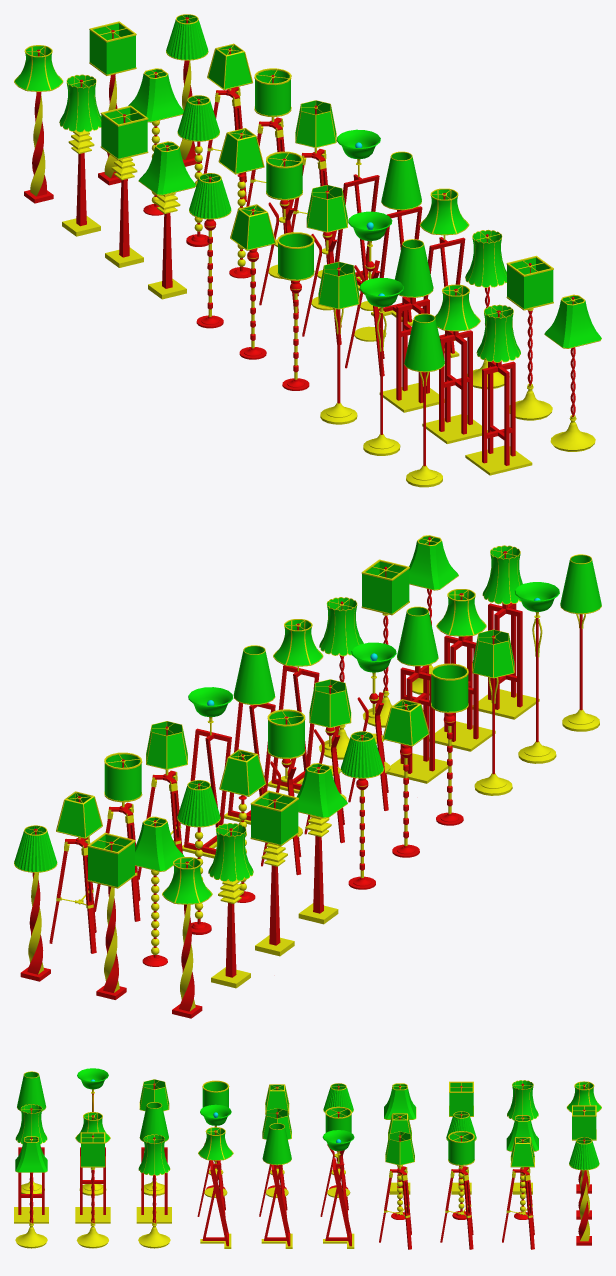
Rendered from floor_lamps_grp.fbx.
The picture shows the model from 3 angles, top to bottom: view 1: azimuth 30°, elevation 25°; view 2: azimuth 150°, elevation 25°; view 3: azimuth 270°, elevation 25°; orthographic projection. The views are drawn at different scales.
Visible parts, largest first — view 1: floor_lamp_11, floor_lamp_12, floor_lamp_13, floor_lamp_8, floor_lamp_7, floor_lamp_9, floor_lamp_22, floor_lamp_21, floor_lamp_10, floor_lamp_20, floor_lamp_25, floor_lamp_1 (+18 smaller); view 2: floor_lamp_11, floor_lamp_13, floor_lamp_12, floor_lamp_8, floor_lamp_20, floor_lamp_9, floor_lamp_7, floor_lamp_10, floor_lamp_29, floor_lamp_25, floor_lamp_24, floor_lamp_30 (+18 smaller); view 3: floor_lamp_25, floor_lamp_11, floor_lamp_13, floor_lamp_24, floor_lamp_28, floor_lamp_27, floor_lamp_23, floor_lamp_21, floor_lamp_22, floor_lamp_12, floor_lamp_29, floor_lamp_30 (+18 smaller).
Part boxes in pixels (x1,y1,x2,y2): floor_lamp_11: (465,304,532,475); floor_lamp_12: (422,284,487,443); floor_lamp_13: (379,239,444,412); floor_lamp_8: (100,105,148,267); floor_lamp_7: (138,141,195,299); floor_lamp_9: (59,74,101,236); floor_lamp_22: (506,255,553,420); floor_lamp_21: (544,294,601,451); floor_lamp_10: (14,45,63,203); floor_lamp_20: (89,21,136,185); floor_lamp_25: (371,151,422,325); floor_lamp_1: (404,313,444,487); floor_lamp_11: (472,545,539,719); floor_lamp_13: (386,606,448,783); floor_lamp_12: (429,589,495,751); floor_lamp_8: (250,790,298,956); floor_lamp_20: (87,832,135,999); floor_lamp_9: (208,823,253,988); floor_lamp_7: (296,763,347,924); floor_lamp_10: (162,857,212,1018); floor_lamp_29: (49,791,102,953); floor_lamp_25: (224,645,275,824); floor_lamp_24: (267,619,323,793); floor_lamp_30: (14,825,57,981); floor_lamp_25: (261,1123,292,1248); floor_lamp_11: (14,1104,48,1223); floor_lamp_13: (136,1102,171,1223); floor_lamp_24: (198,1127,233,1248); floor_lamp_28: (440,1131,474,1249); floor_lamp_27: (379,1131,414,1249); floor_lamp_23: (138,1134,170,1248); floor_lamp_21: (15,1136,47,1248); floor_lamp_22: (76,1132,108,1248); floor_lamp_12: (75,1112,110,1223); floor_lamp_29: (502,1137,534,1249); floor_lamp_30: (569,1137,599,1245).
Size of the model in its own units: 259 by 243 by 957.
